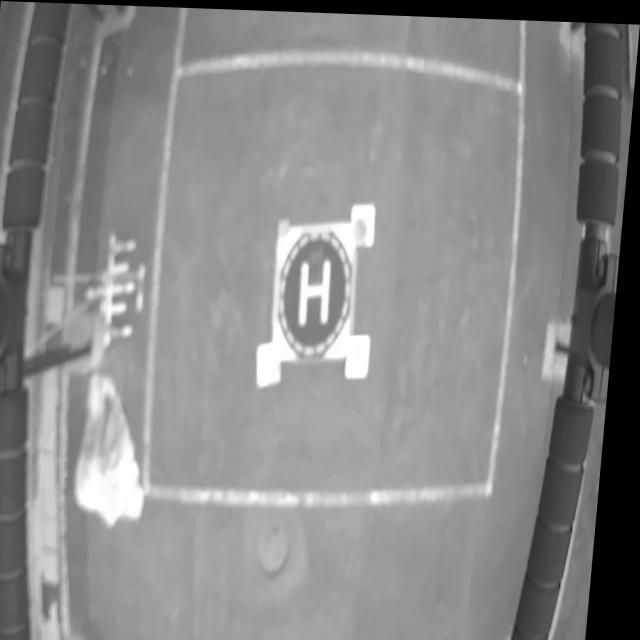Helipad: (303, 252, 335, 321)
